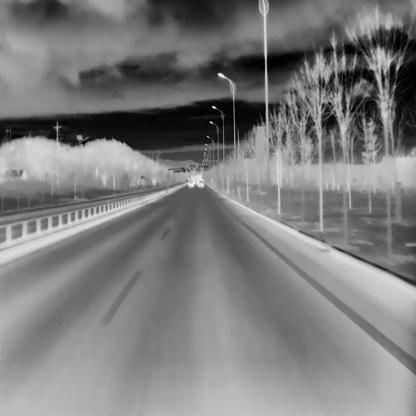car: (196, 174, 202, 184), (191, 175, 196, 184), (198, 180, 204, 186), (188, 180, 193, 186)
